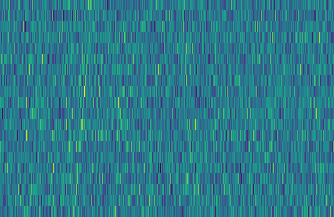signal: (67, 0, 94, 217)
